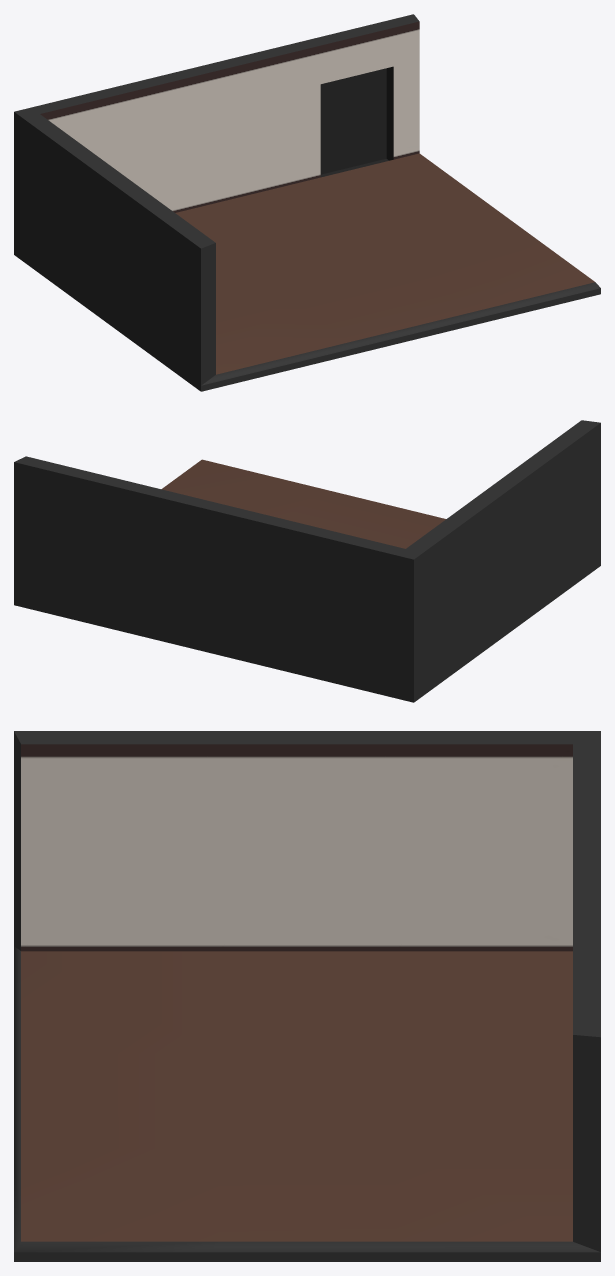
Rendered from houseRoom_geo.fbx.
The picture shows the model from 3 angles, top to bottom: view 1: azimuth 30°, elevation 25°; view 2: azimuth 150°, elevation 25°; view 3: azimuth 270°, elevation 25°; orthographic projection. The views are drawn at different scales.
Visible parts, largest first — view 1: speatRoom_geo; view 2: speatRoom_geo; view 3: speatRoom_geo.
Boxes of the visible parts, x1=… form: speatRoom_geo: x1=14, y1=14, x2=600, y2=391; speatRoom_geo: x1=14, y1=420, x2=600, y2=702; speatRoom_geo: x1=14, y1=731, x2=600, y2=1261.
Bounding box in the file's own units: 11.69 × 4 × 9.48.
Materials: 1 (1 with a texture image).
